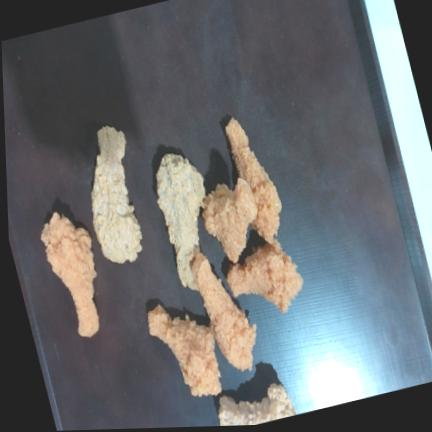chicken: (41, 212, 99, 336), (226, 118, 282, 242), (92, 126, 142, 263), (156, 153, 205, 289), (149, 306, 221, 396), (227, 240, 303, 313), (203, 178, 258, 262), (219, 383, 297, 426)
